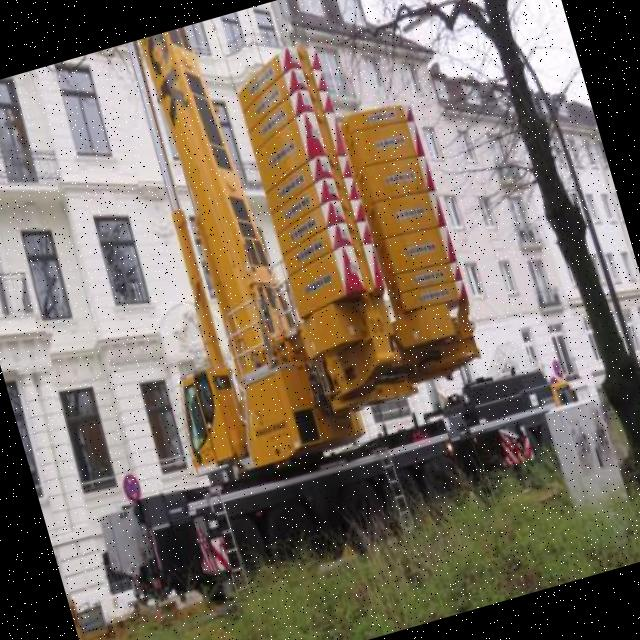Mobile Crane: (0, 0, 598, 619)
